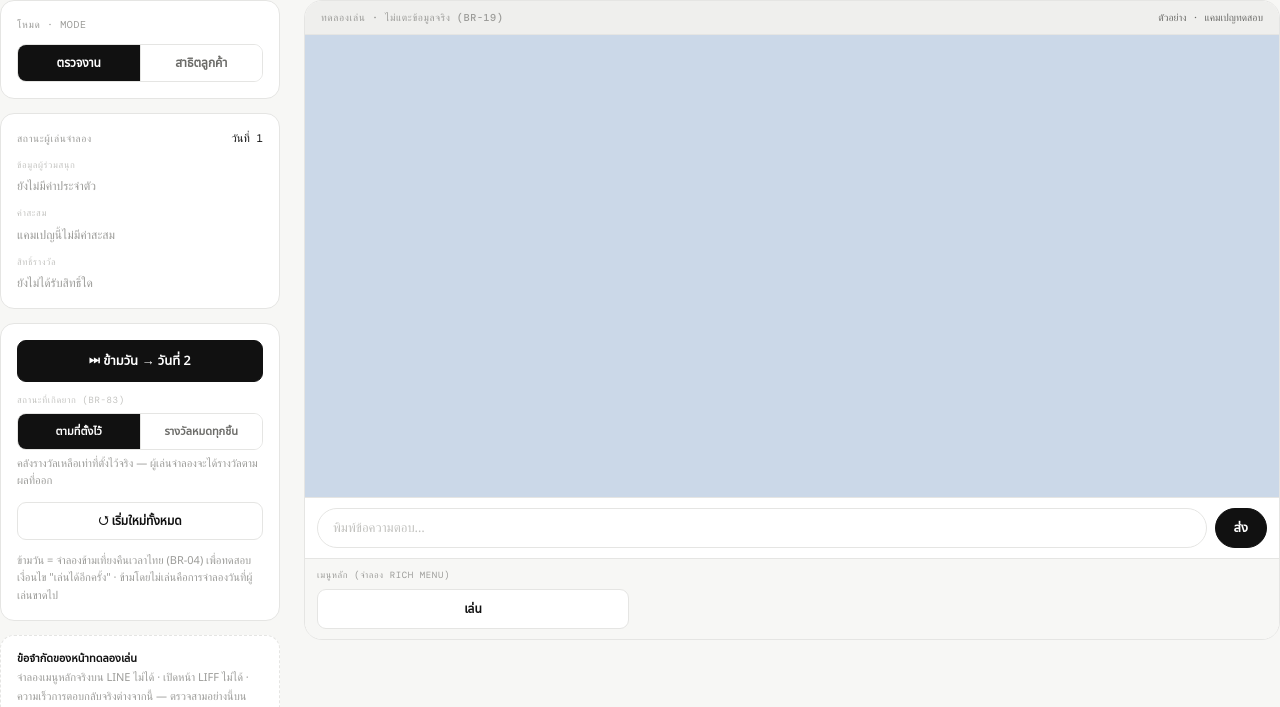
Test: สลับดูสถานะที่เกิดยาก (BR-83) › โหมดสาธิตลูกค้าไม่ให้สลับสภาพคลัง เพราะไม่ใช่ของที่เอาให้ลูกค้าดู
This screenshot has width=1280, height=707.
Click the button "สาธิตลูกค้า" at (201, 63), box [140, 45, 262, 81]
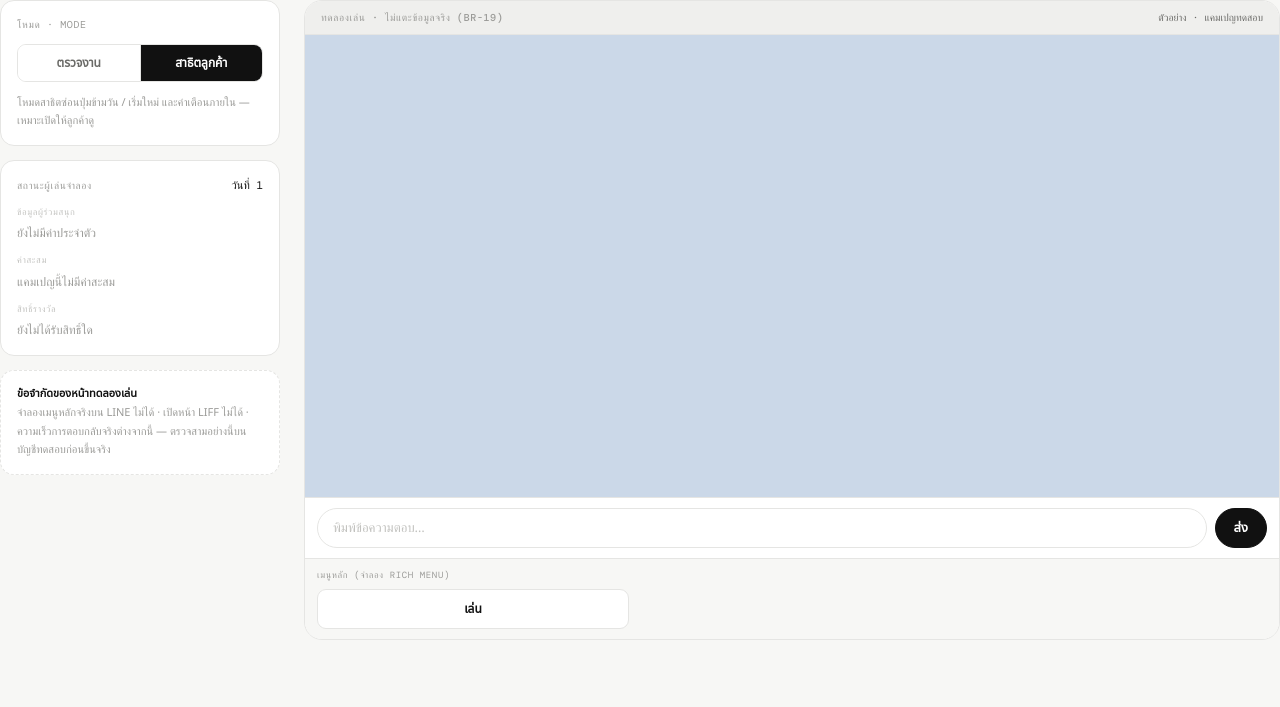
Now the button "รางวัลหมดทุกชิ้น" is gone
